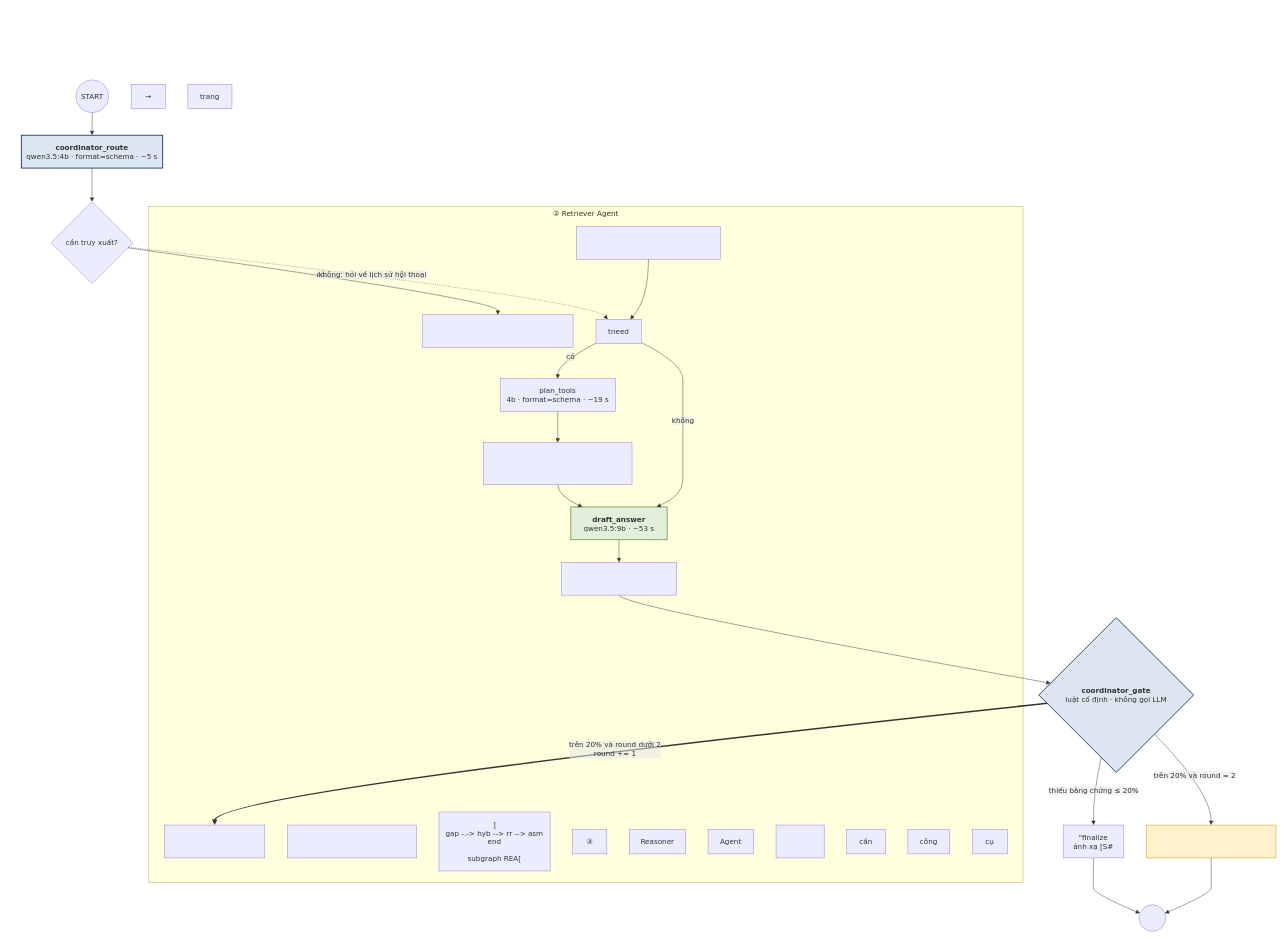
The diagram is 1284 pixels wide and 939 high, and some of its shapes have lost their labels. Each missing label, with the centre of its shape:
"expand_parent + assemble_context ≤ 2500 token · gắn nhãn [S#: (x=648, y=242)
] tneed{: (x=800, y=841)
END: (x=1152, y=917)
finalize_with_warning đánh dấu câu thiếu bằng chứng: (x=1211, y=841)
gap_queries 4b · chỉ ở vòng 2 · ~5 s: (x=214, y=841)
hybrid_search dense 40 + sparse 40 → RRF · dưới 1 s: (x=497, y=331)
rerank cross-encoder · còn top-5 · ~3 s: (x=351, y=841)
run_tools calculate · extract_table · risk_check mã tất định · dưới 1 s: (x=557, y=463)
verify_claims 4b · format=schema · ~18 s: (x=619, y=578)
